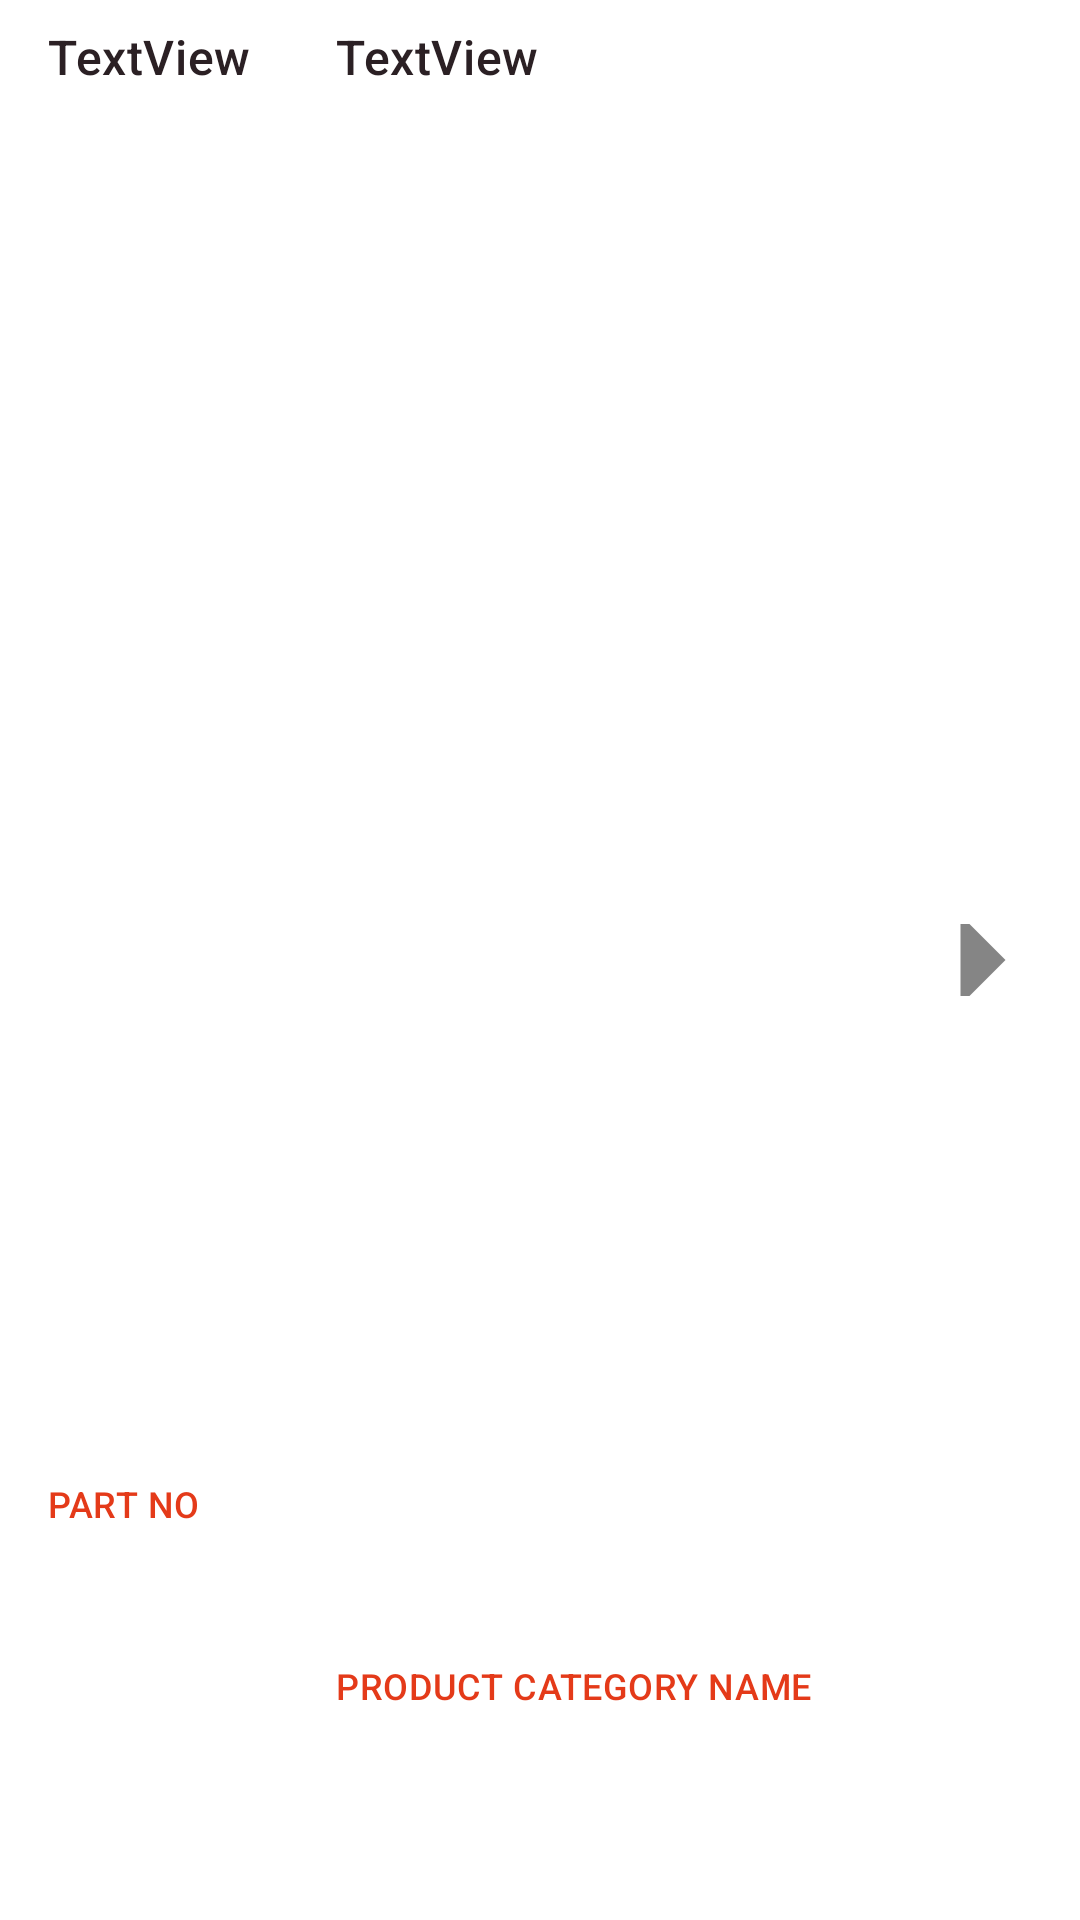

Locate icon controls on the screen. Image size 1080 x 1920, boxes as {"x1": x1, "y1": y1, "x2": x2, "y2": y2}.
accessright: {"x1": 960, "y1": 924, "x2": 1005, "y2": 996}
